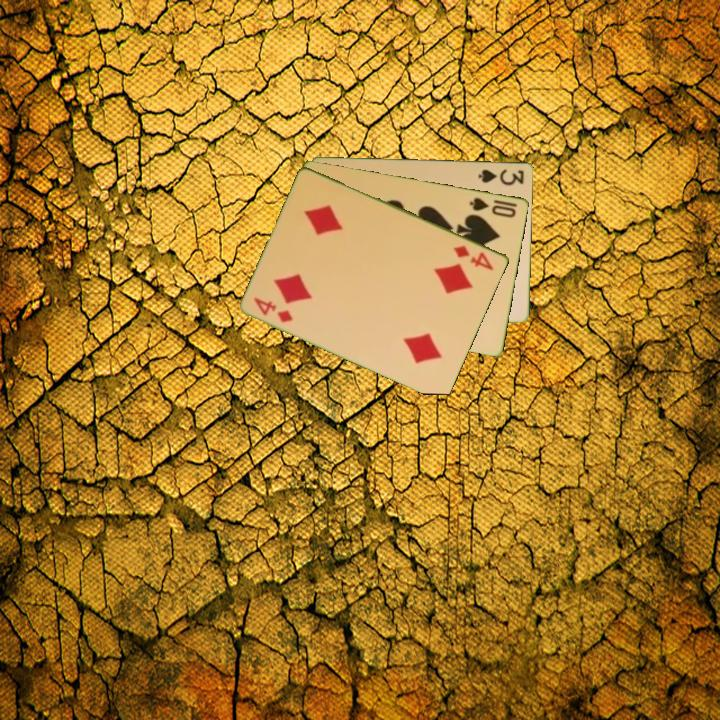10s: (466, 194, 519, 220)
3s: (475, 165, 527, 187)
4d: (450, 241, 497, 273), (250, 293, 296, 325)
